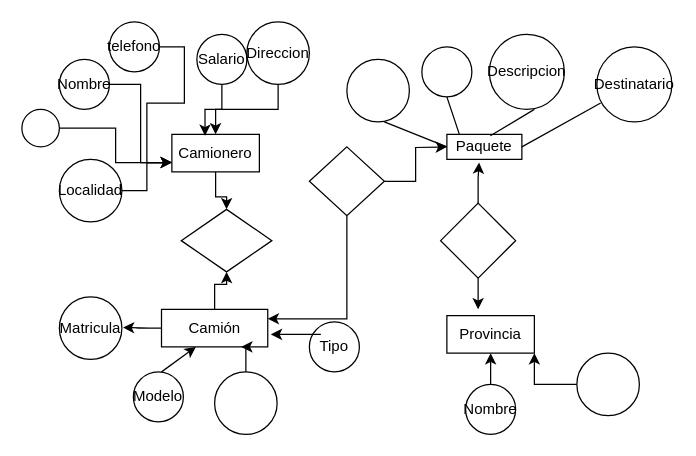
This 696x456 diagram has some shape labels left out. The centre of each missing label's shape, as x and y in pixels:
"C.de provincia" belongs at point (607, 384).
"Codigo" belongs at point (446, 71).
"Conducen" belongs at point (226, 240).
"Direccion destinatario" belongs at point (377, 90).
"DNI" belongs at point (40, 127).
"Lleva a" belongs at point (477, 240).
"Potencia" belongs at point (245, 402).
"Recoge" belongs at point (346, 181).
